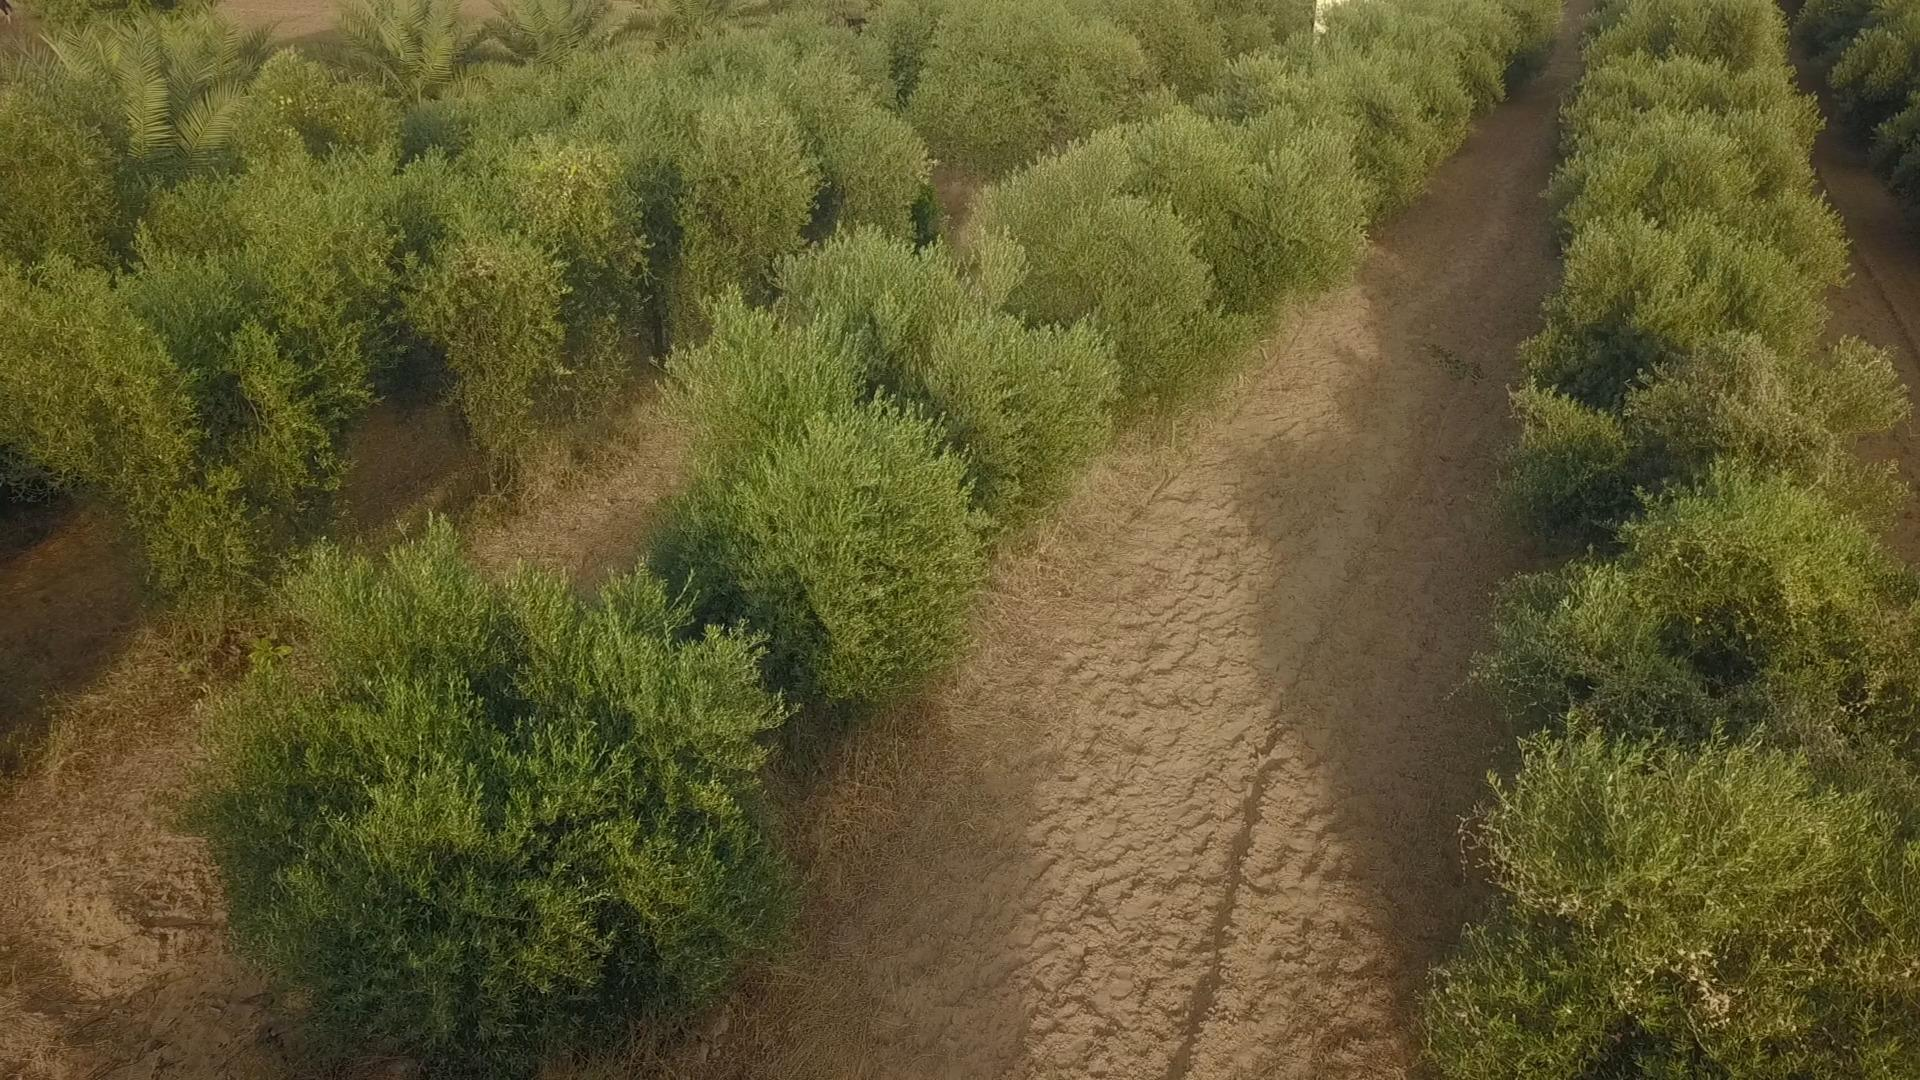canopy: (206, 0, 1555, 1073), (0, 0, 1156, 584), (1425, 0, 1919, 1079)
road: (676, 18, 1576, 1079), (0, 397, 684, 1079)
